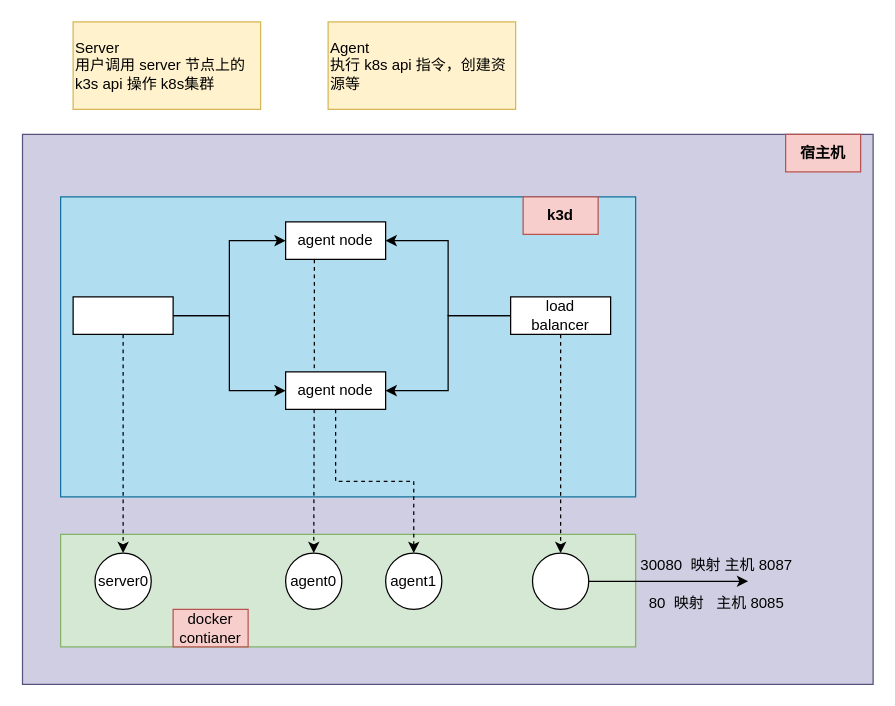
Some shapes in this 895 by 706 pixel diagram are drawn without their labels. Here are the shapes that lost their labels. From the top down, the centre of each, then its label:
the point at 122,315: server node
the point at 560,580: lb
